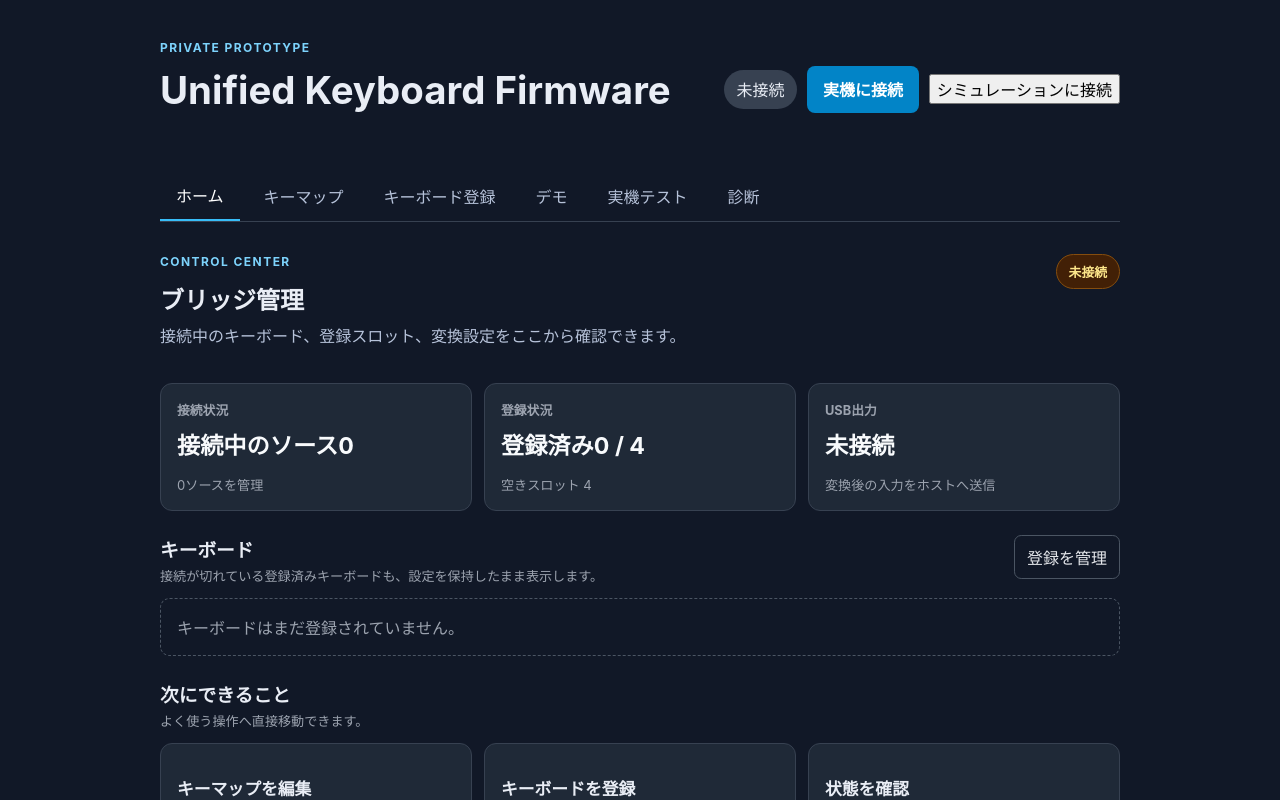
Test case: physical bridge › does not show diagnostics data until a board or simulation is connected
The width and height of the screenshot is (1280, 800).
Click the button "診断".
click(744, 196)  # box [712,171,776,221]
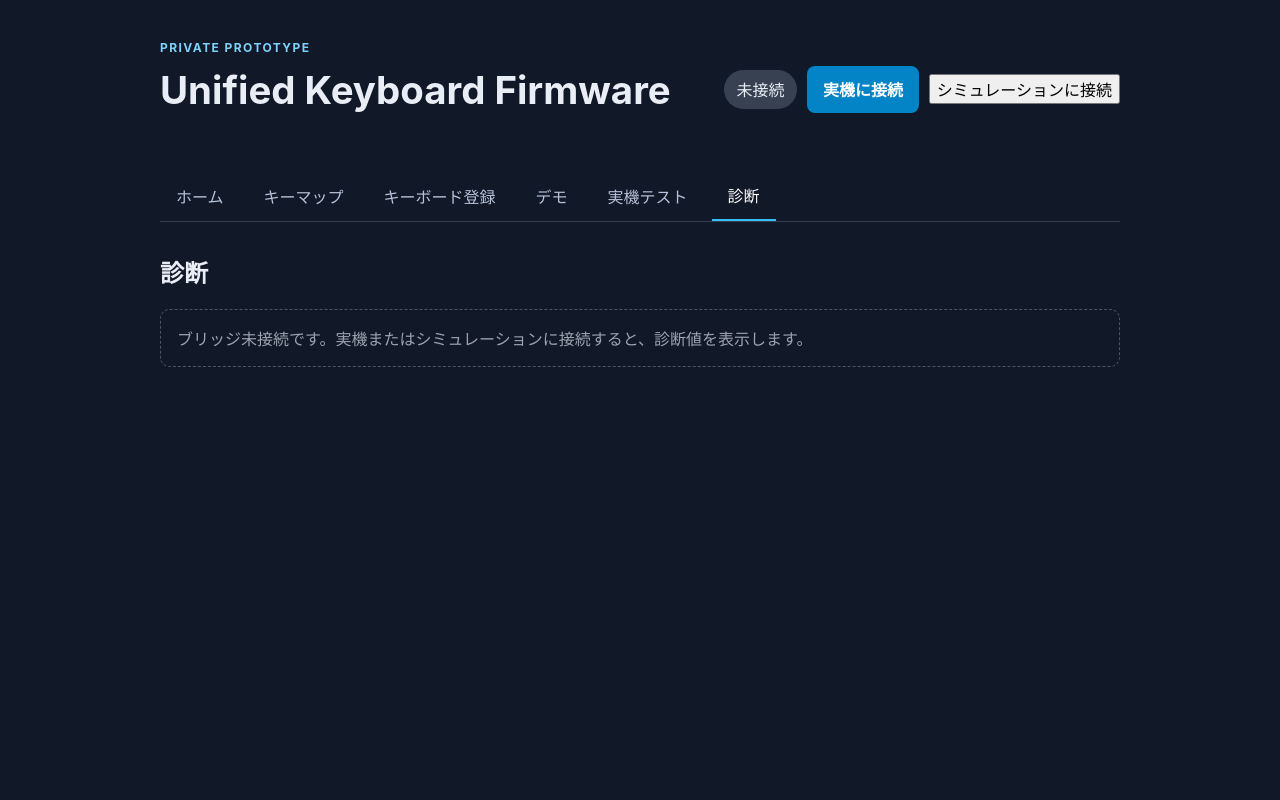
Expected: the button "実機に接続" is shown, [807,66,919,113]
Now the text "ブリッジ未接続です。実機またはシミュレーションに接続すると、診断値を表示します。" is shown, box [160,309,1120,367]
